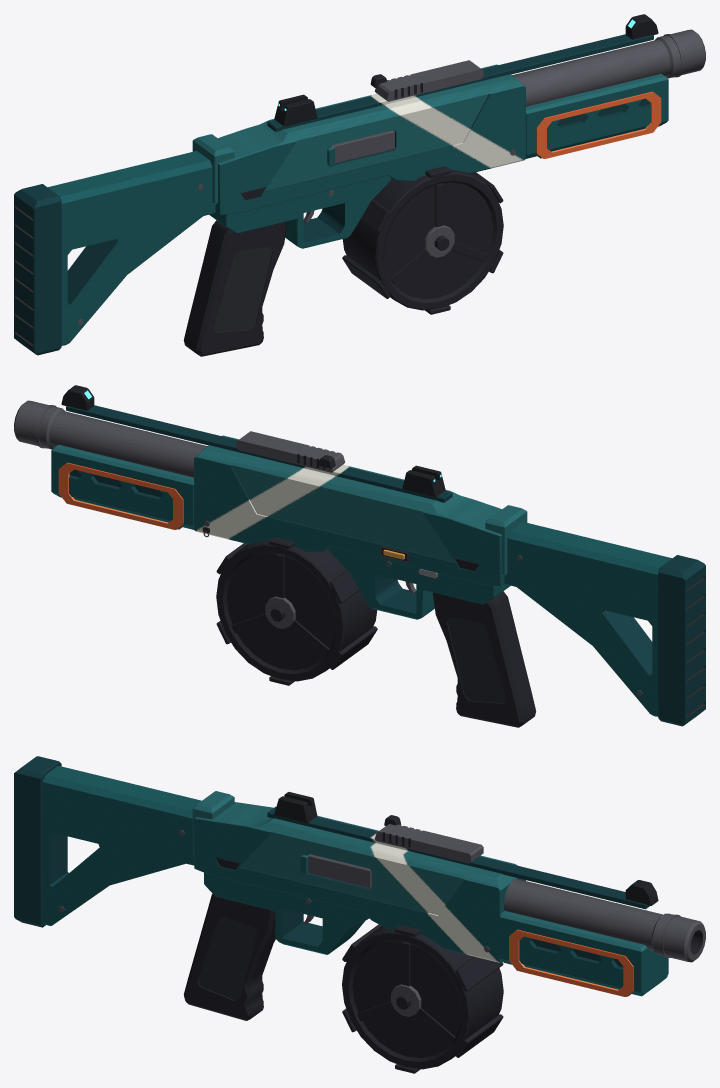
Rendered from Judge_Breakwater_v01.fbx.
3 views of the same model, one above another, from view 1: azimuth 30°, elevation 25°; view 2: azimuth 150°, elevation 25°; view 3: azimuth 330°, elevation 25° (orthographic).
Visible parts, largest first — view 1: Judge_Receiver, Judge_Stock, Judge_Mag, Judge_Grip, Judge_Barrel, Judge_Handguard, Judge_ChargingHandle, Breakwater_ForeBumper_R, Judge_Sights, Judge_Bolt; view 2: Judge_Receiver, Judge_Stock, Judge_Mag, Judge_Grip, Judge_Barrel, Judge_Handguard, Judge_ChargingHandle, Breakwater_ForeBumper_L, Judge_Sights; view 3: Judge_Receiver, Judge_Stock, Judge_Mag, Judge_Grip, Judge_Barrel, Judge_Handguard, Judge_ChargingHandle, Breakwater_ForeBumper_R, Judge_Sights, Judge_Bolt.
Part boxes in pixels (x1,y1,x2,y2): Judge_Receiver: (192,34,653,248); Judge_Stock: (14,151,215,355); Judge_Mag: (342,166,503,314); Judge_Grip: (183,220,287,356); Judge_Barrel: (512,29,705,106); Judge_Handguard: (525,73,668,158); Judge_ChargingHandle: (370,60,483,101); Breakwater_ForeBumper_R: (536,91,661,158); Judge_Sights: (274,14,658,126); Judge_Bolt: (330,130,394,163); Judge_Receiver: (66,405,527,619); Judge_Stock: (504,522,705,726); Judge_Mag: (216,537,377,685); Judge_Grip: (432,591,536,727); Judge_Barrel: (14,400,207,477); Judge_Handguard: (51,444,194,529); Judge_ChargingHandle: (236,431,345,472); Breakwater_ForeBumper_L: (58,462,183,529); Judge_Sights: (61,385,445,497); Judge_Receiver: (192,791,649,962); Judge_Stock: (14,756,201,927); Judge_Mag: (342,924,503,1073); Judge_Grip: (183,894,275,1020); Judge_Barrel: (504,879,705,962); Judge_Handguard: (499,911,668,996); Judge_ChargingHandle: (374,815,483,863); Breakwater_ForeBumper_R: (509,929,633,996); Judge_Sights: (274,792,658,905); Judge_Bolt: (307,854,371,887).
Bounding box in the file's own units: 314 × 102 × 33.6.
13 materials, 11 textured.
